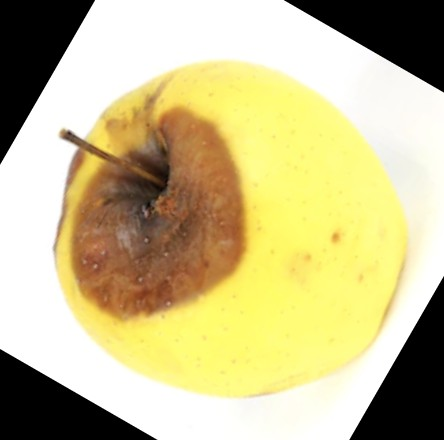rotten_apple: (51, 59, 407, 399)
